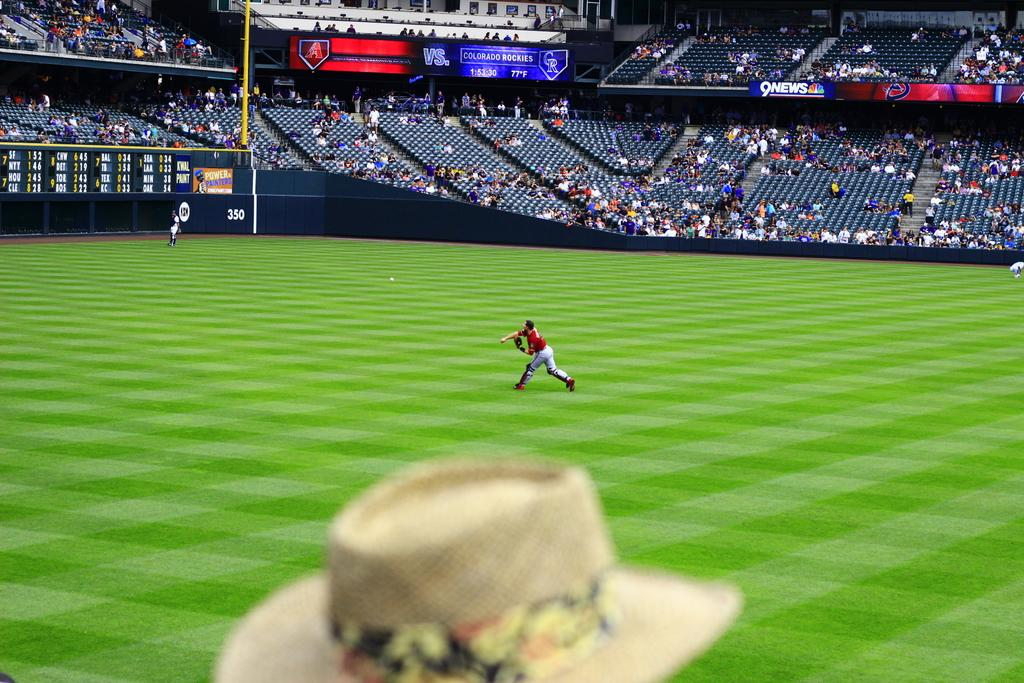Hat: (213, 456, 747, 682)
